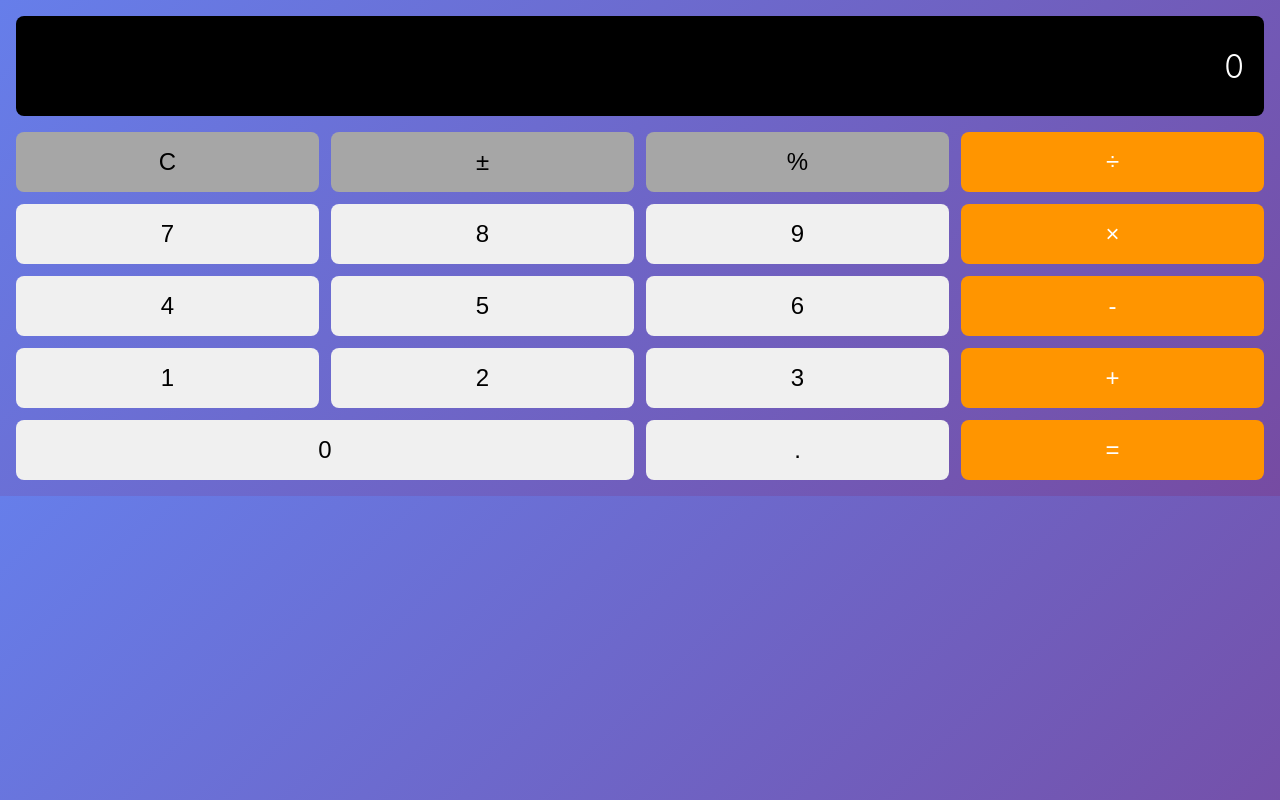
Test: Calculator Component › handles decimal numbers
What coordinates should you click on to do the following:
click the button "3"
I would click on:
 (798, 378)
Its box is x1=646 y1=348 x2=949 y2=408.
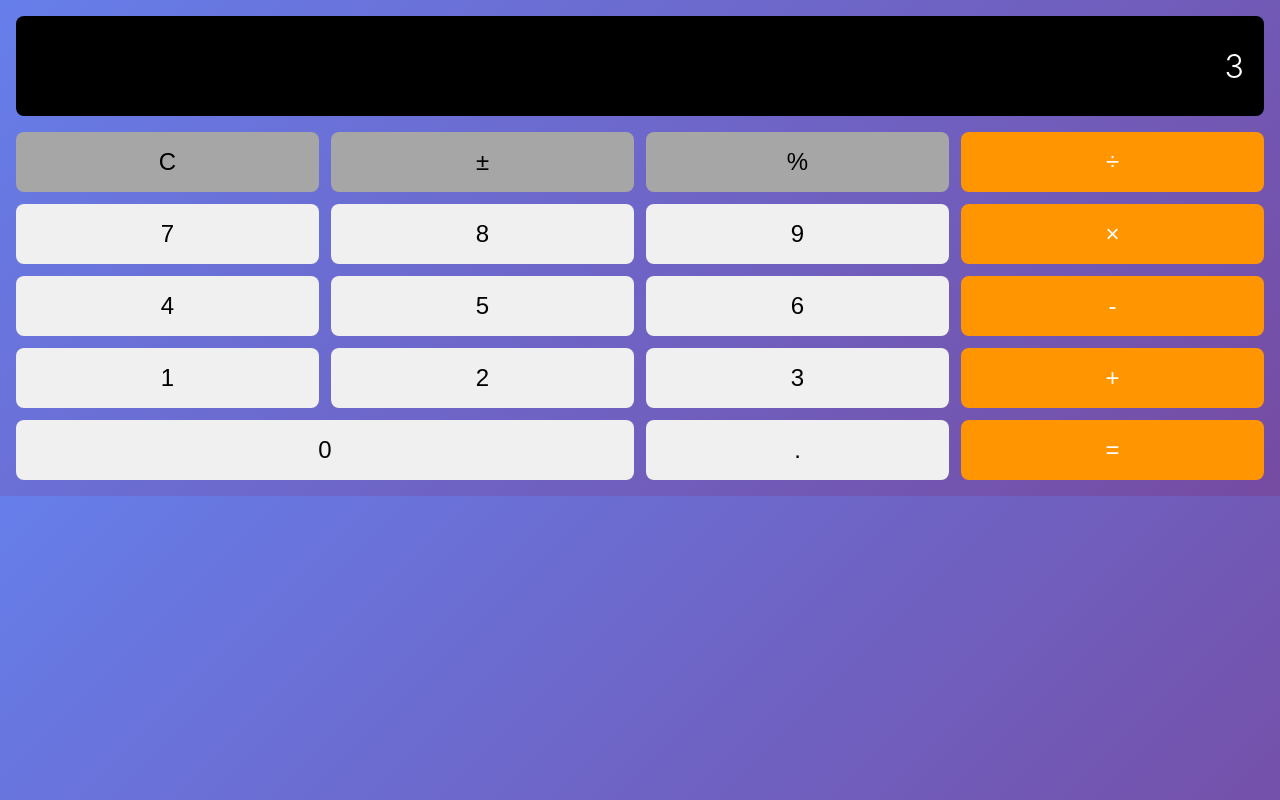
What coordinates should you click on to do the following:
click the button "."
I would click on:
 (798, 450)
Its box is x1=646 y1=420 x2=949 y2=480.
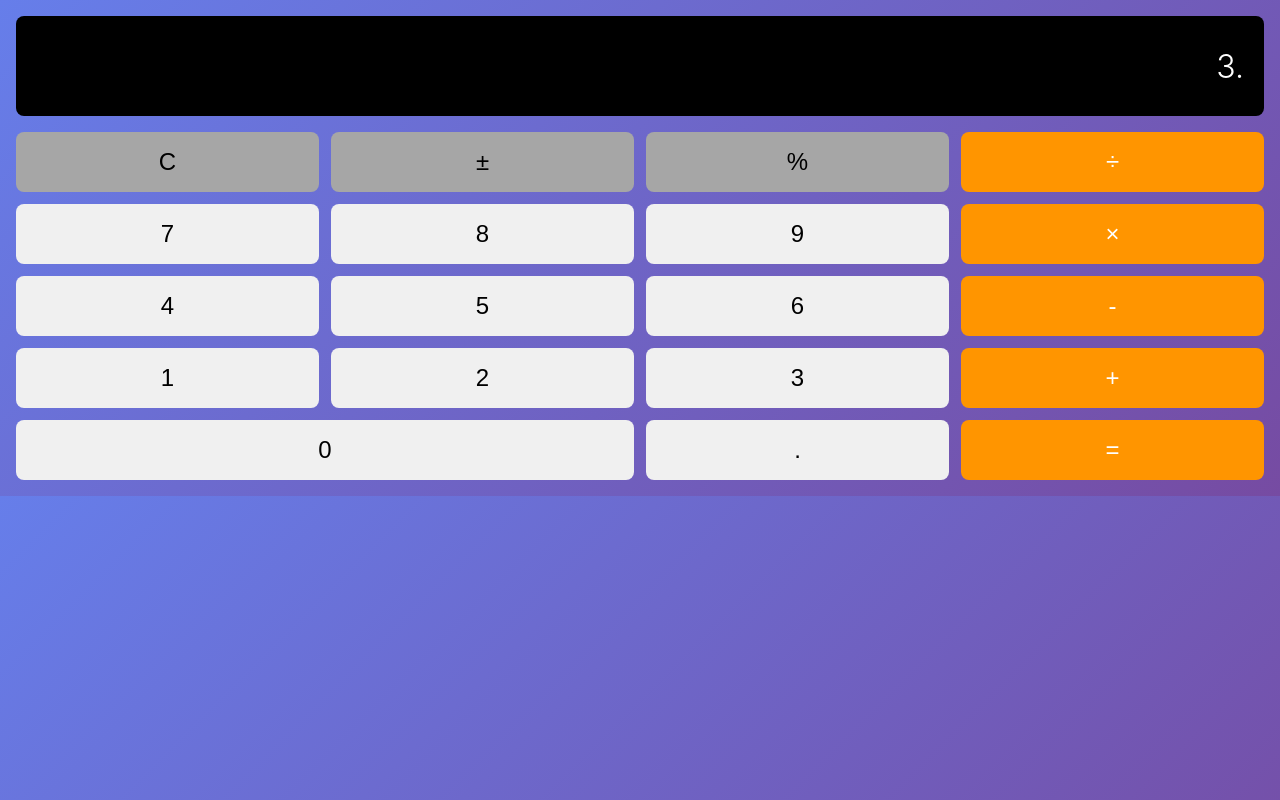
What coordinates should you click on to do the following:
click the button "5"
I would click on:
 (482, 306)
Its box is x1=331 y1=276 x2=634 y2=336.
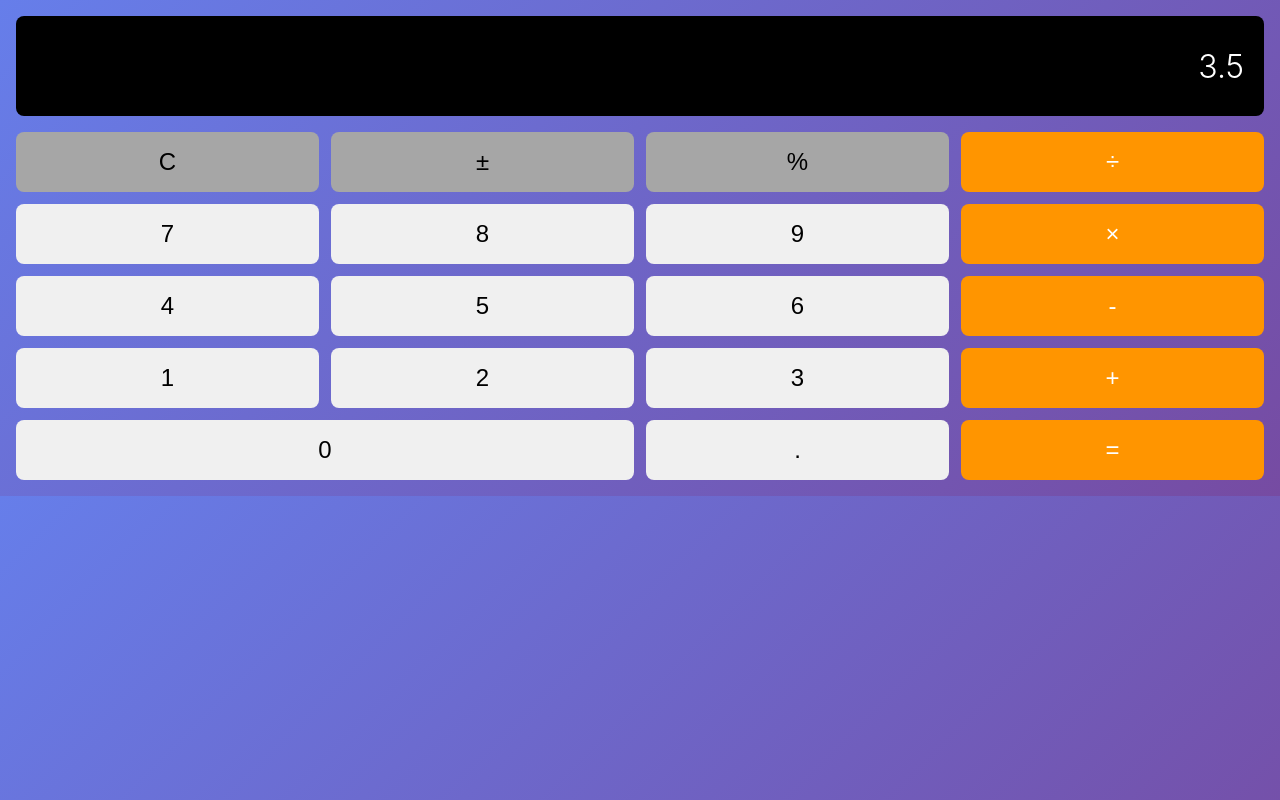
Now the text "3.5" is shown, box x1=1198 y1=46 x2=1244 y2=86
